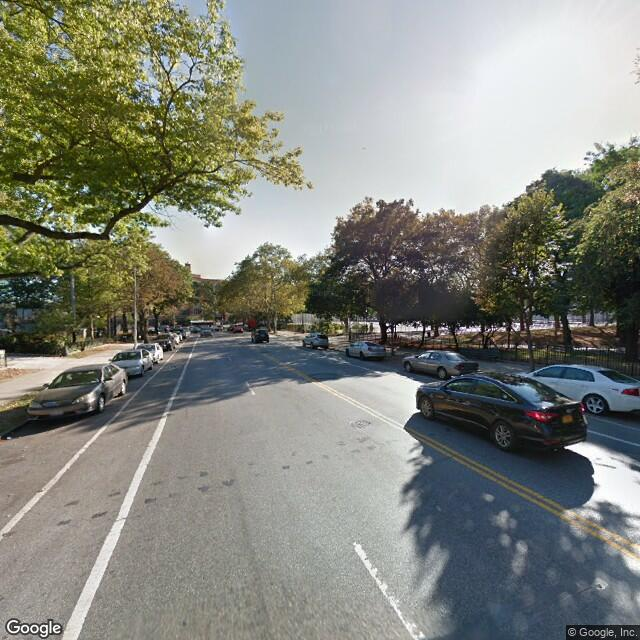litter: (6, 435, 13, 441), (5, 514, 13, 516)
